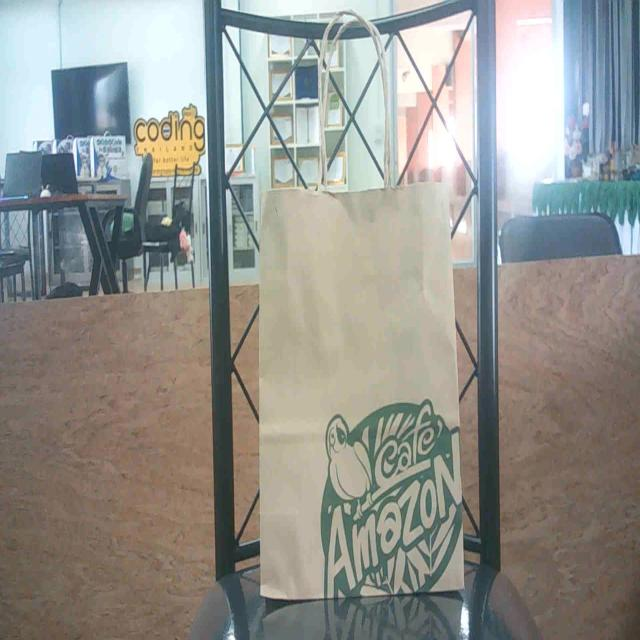bag: (264, 186, 462, 610)
